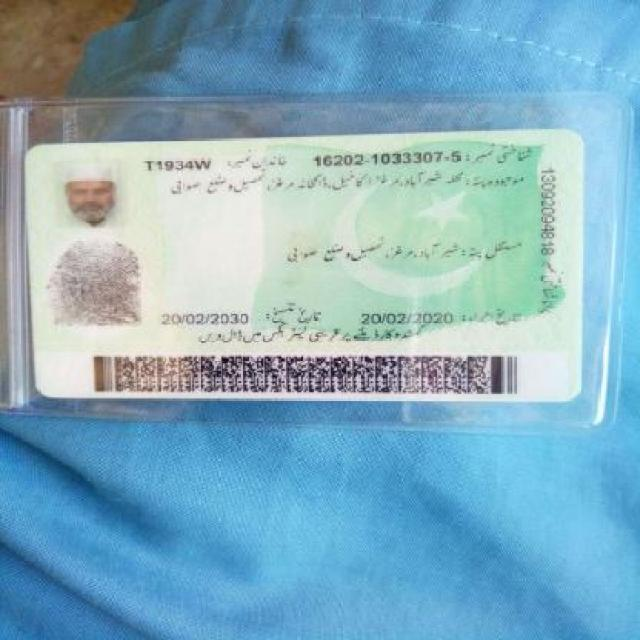Back: (17, 129, 583, 405)
